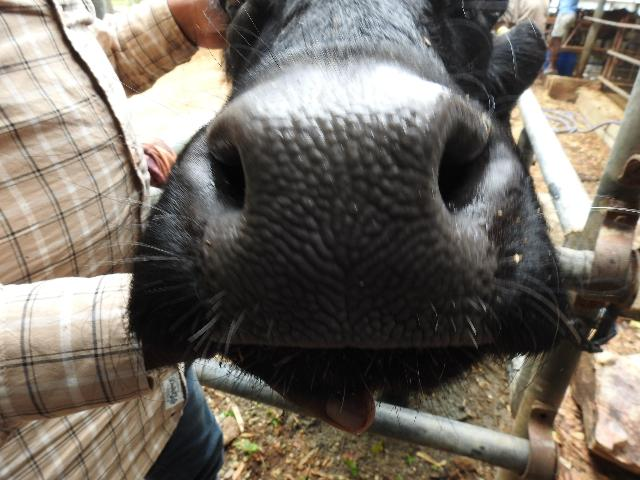Muzzle: (245, 100, 437, 338)
